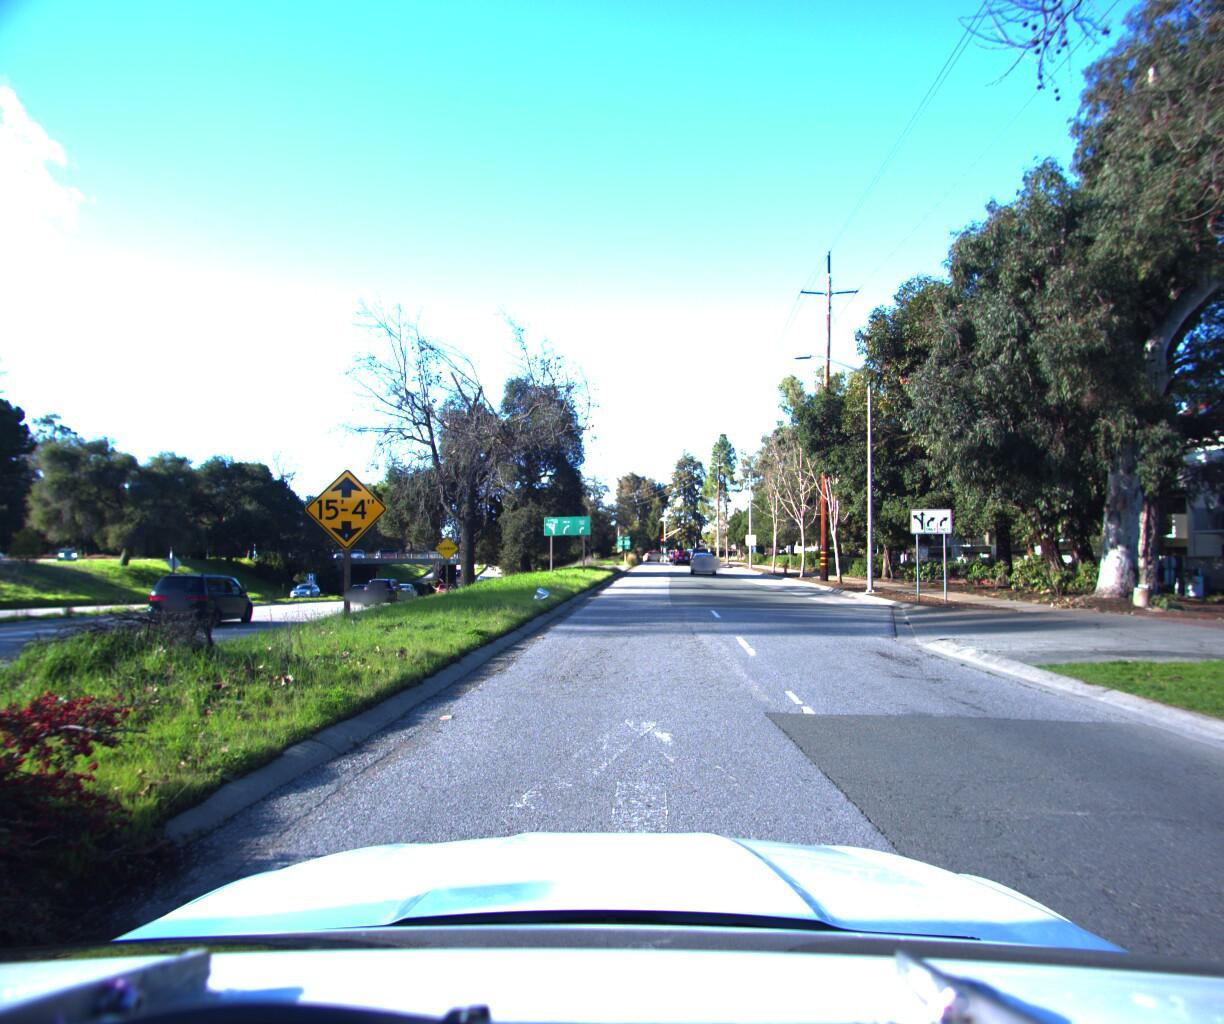car: (148, 566, 264, 626), (367, 573, 415, 602), (286, 580, 321, 599), (688, 548, 717, 571)
